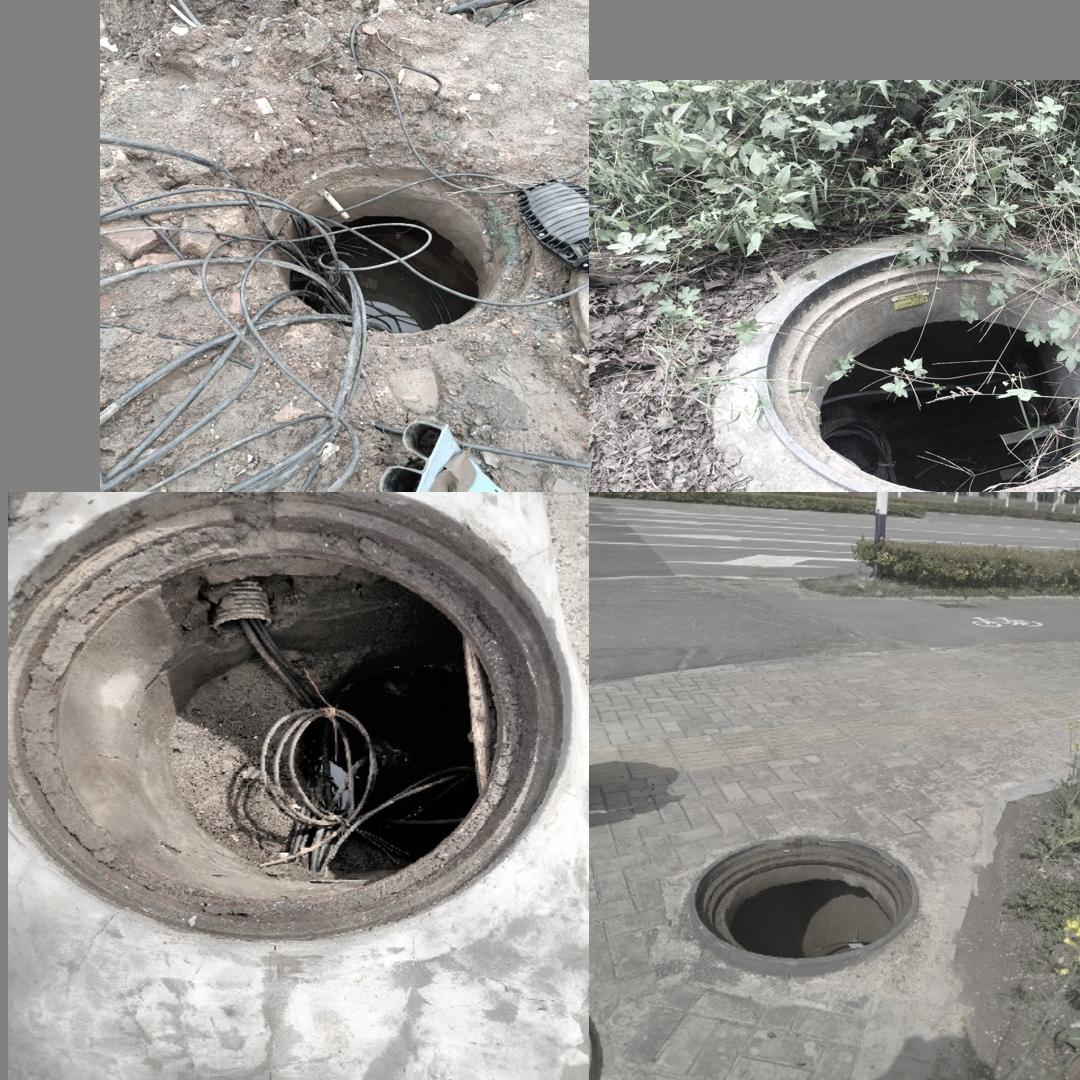lose: (11, 493, 570, 942), (737, 231, 1080, 487), (254, 154, 541, 353), (686, 835, 917, 978)
